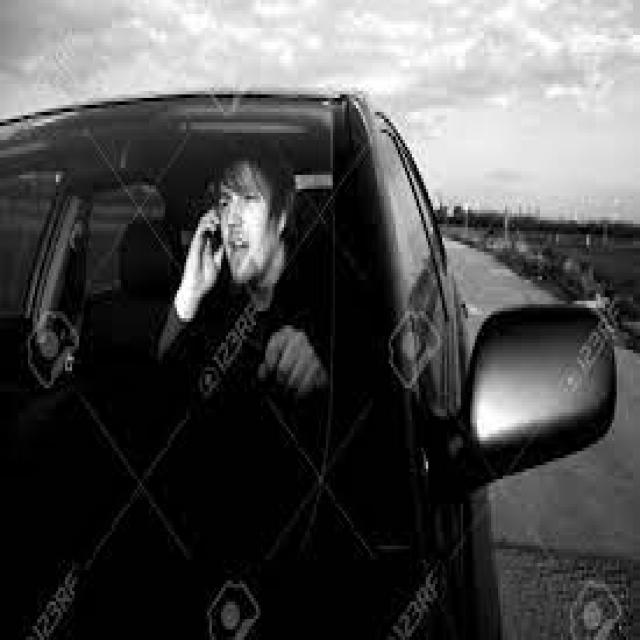Cellphone_calling: (177, 185, 244, 315)
